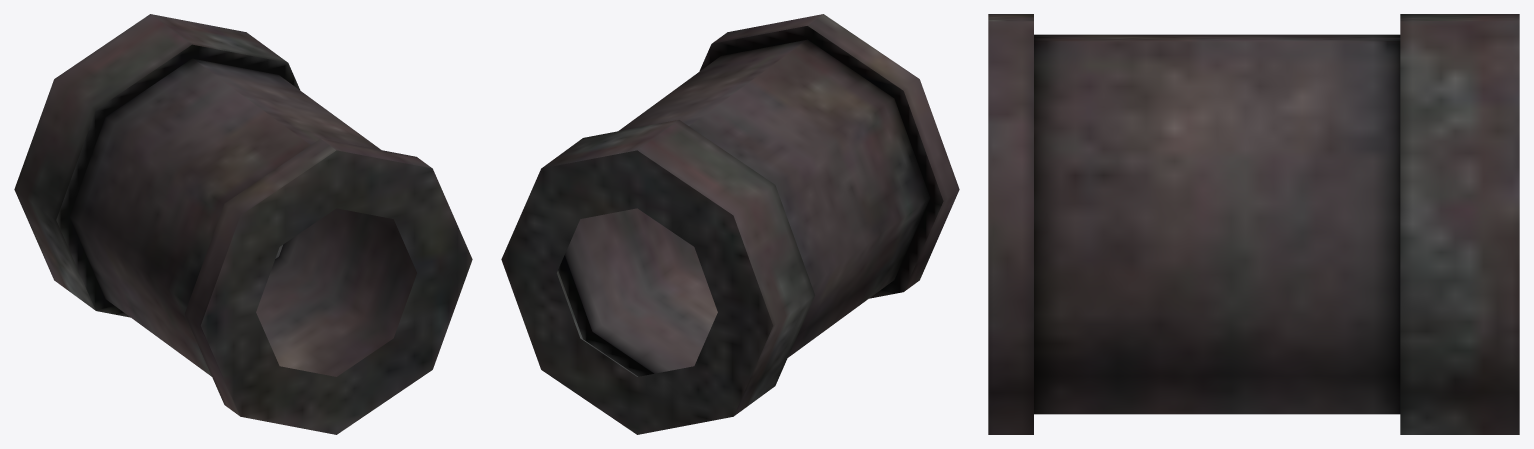
The model's file is OT_Pipe_S.FBX.
3 views of the same model, side by side, from view 1: azimuth 30°, elevation 25°; view 2: azimuth 150°, elevation 25°; view 3: azimuth 270°, elevation 25° (orthographic). The views are drawn at different scales.
Parts seen in each view (by area): view 1: OT_Pipe_S; view 2: OT_Pipe_S; view 3: OT_Pipe_S.
Part boxes in pixels (x1,y1,x2,y2): OT_Pipe_S: (14, 14, 472, 434); OT_Pipe_S: (501, 14, 959, 434); OT_Pipe_S: (988, 14, 1519, 434).
Bounding box in the file's own units: 29.44 × 29.44 × 34.93.
